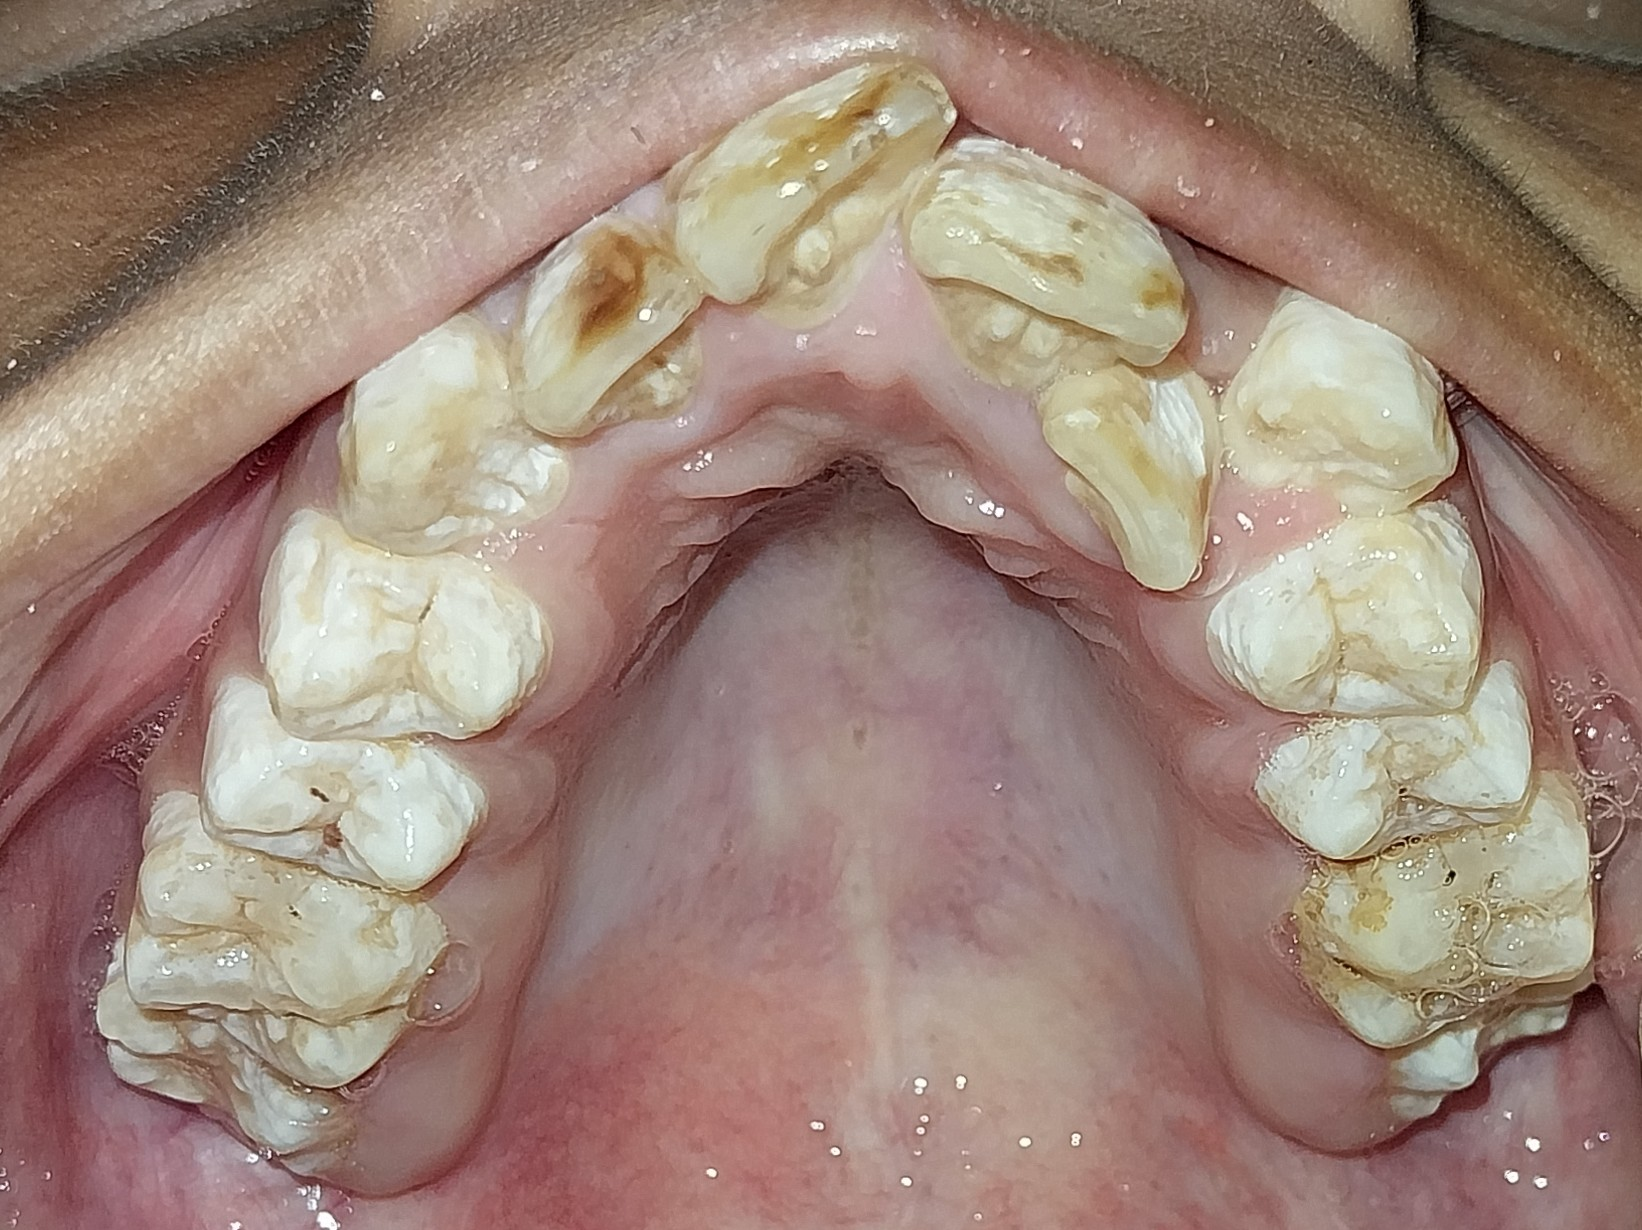D: (492, 207, 719, 445)
